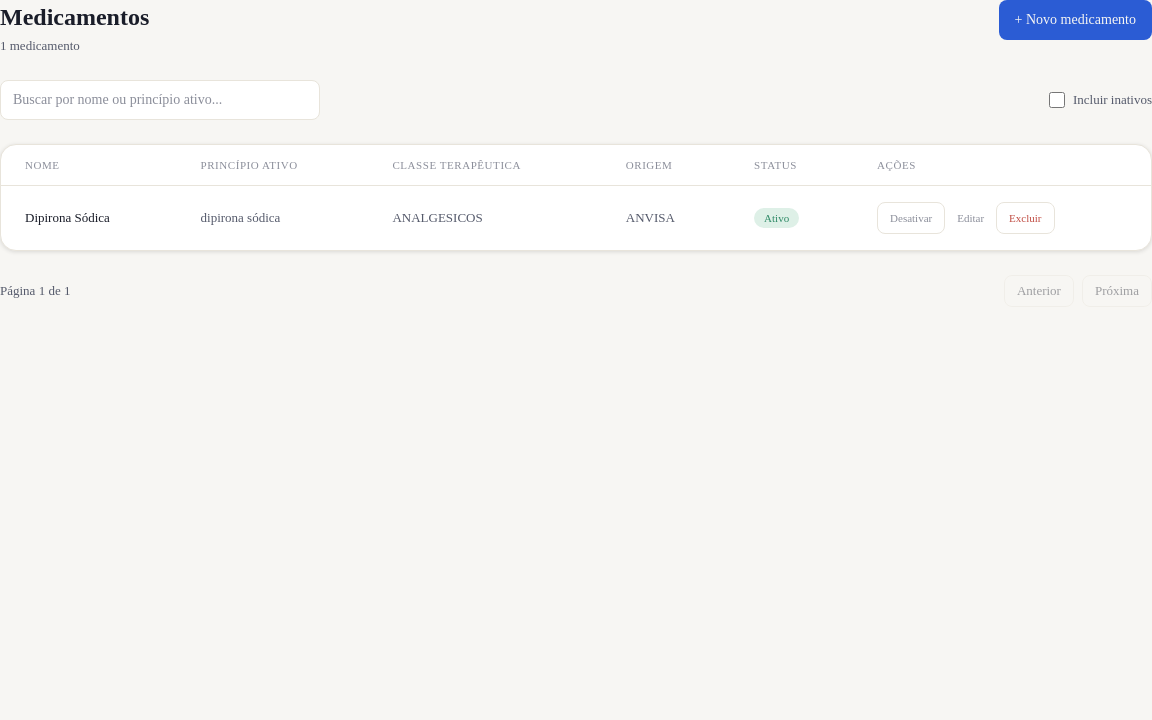
MedicationList (integration) › shows an error message when deletion fails
Click the button with test id "medication-delete-button-m1" at x=1025, y=218, box [996, 202, 1054, 234]
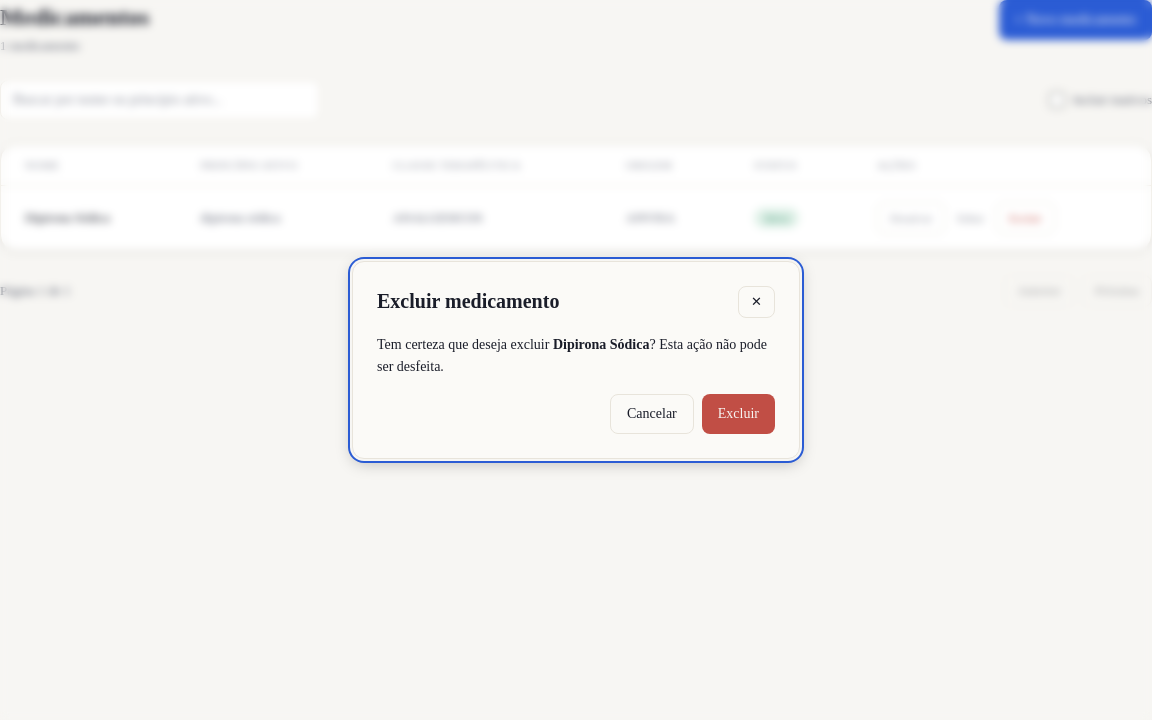
Click the button with test id "medication-delete-dialog-confirm" at x=738, y=414, box [702, 394, 775, 434]
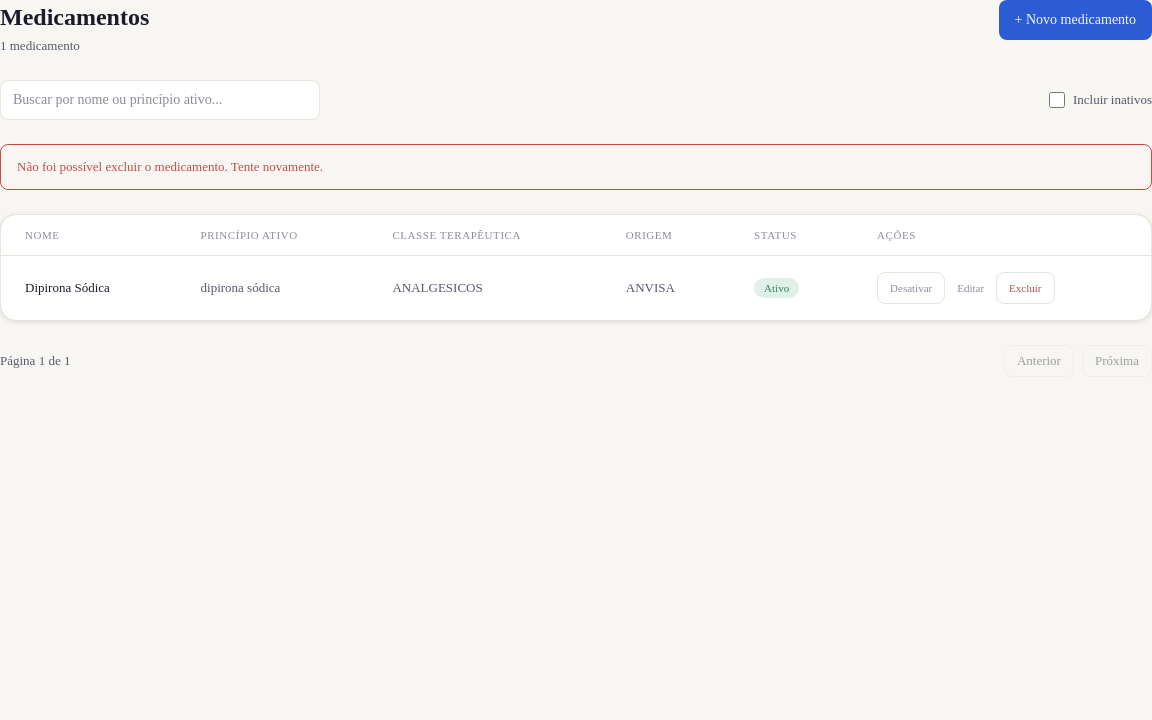
Result: the message "Não foi possível excluir o medicamento. Tente novamente." is shown at [0, 144, 1151, 190]
